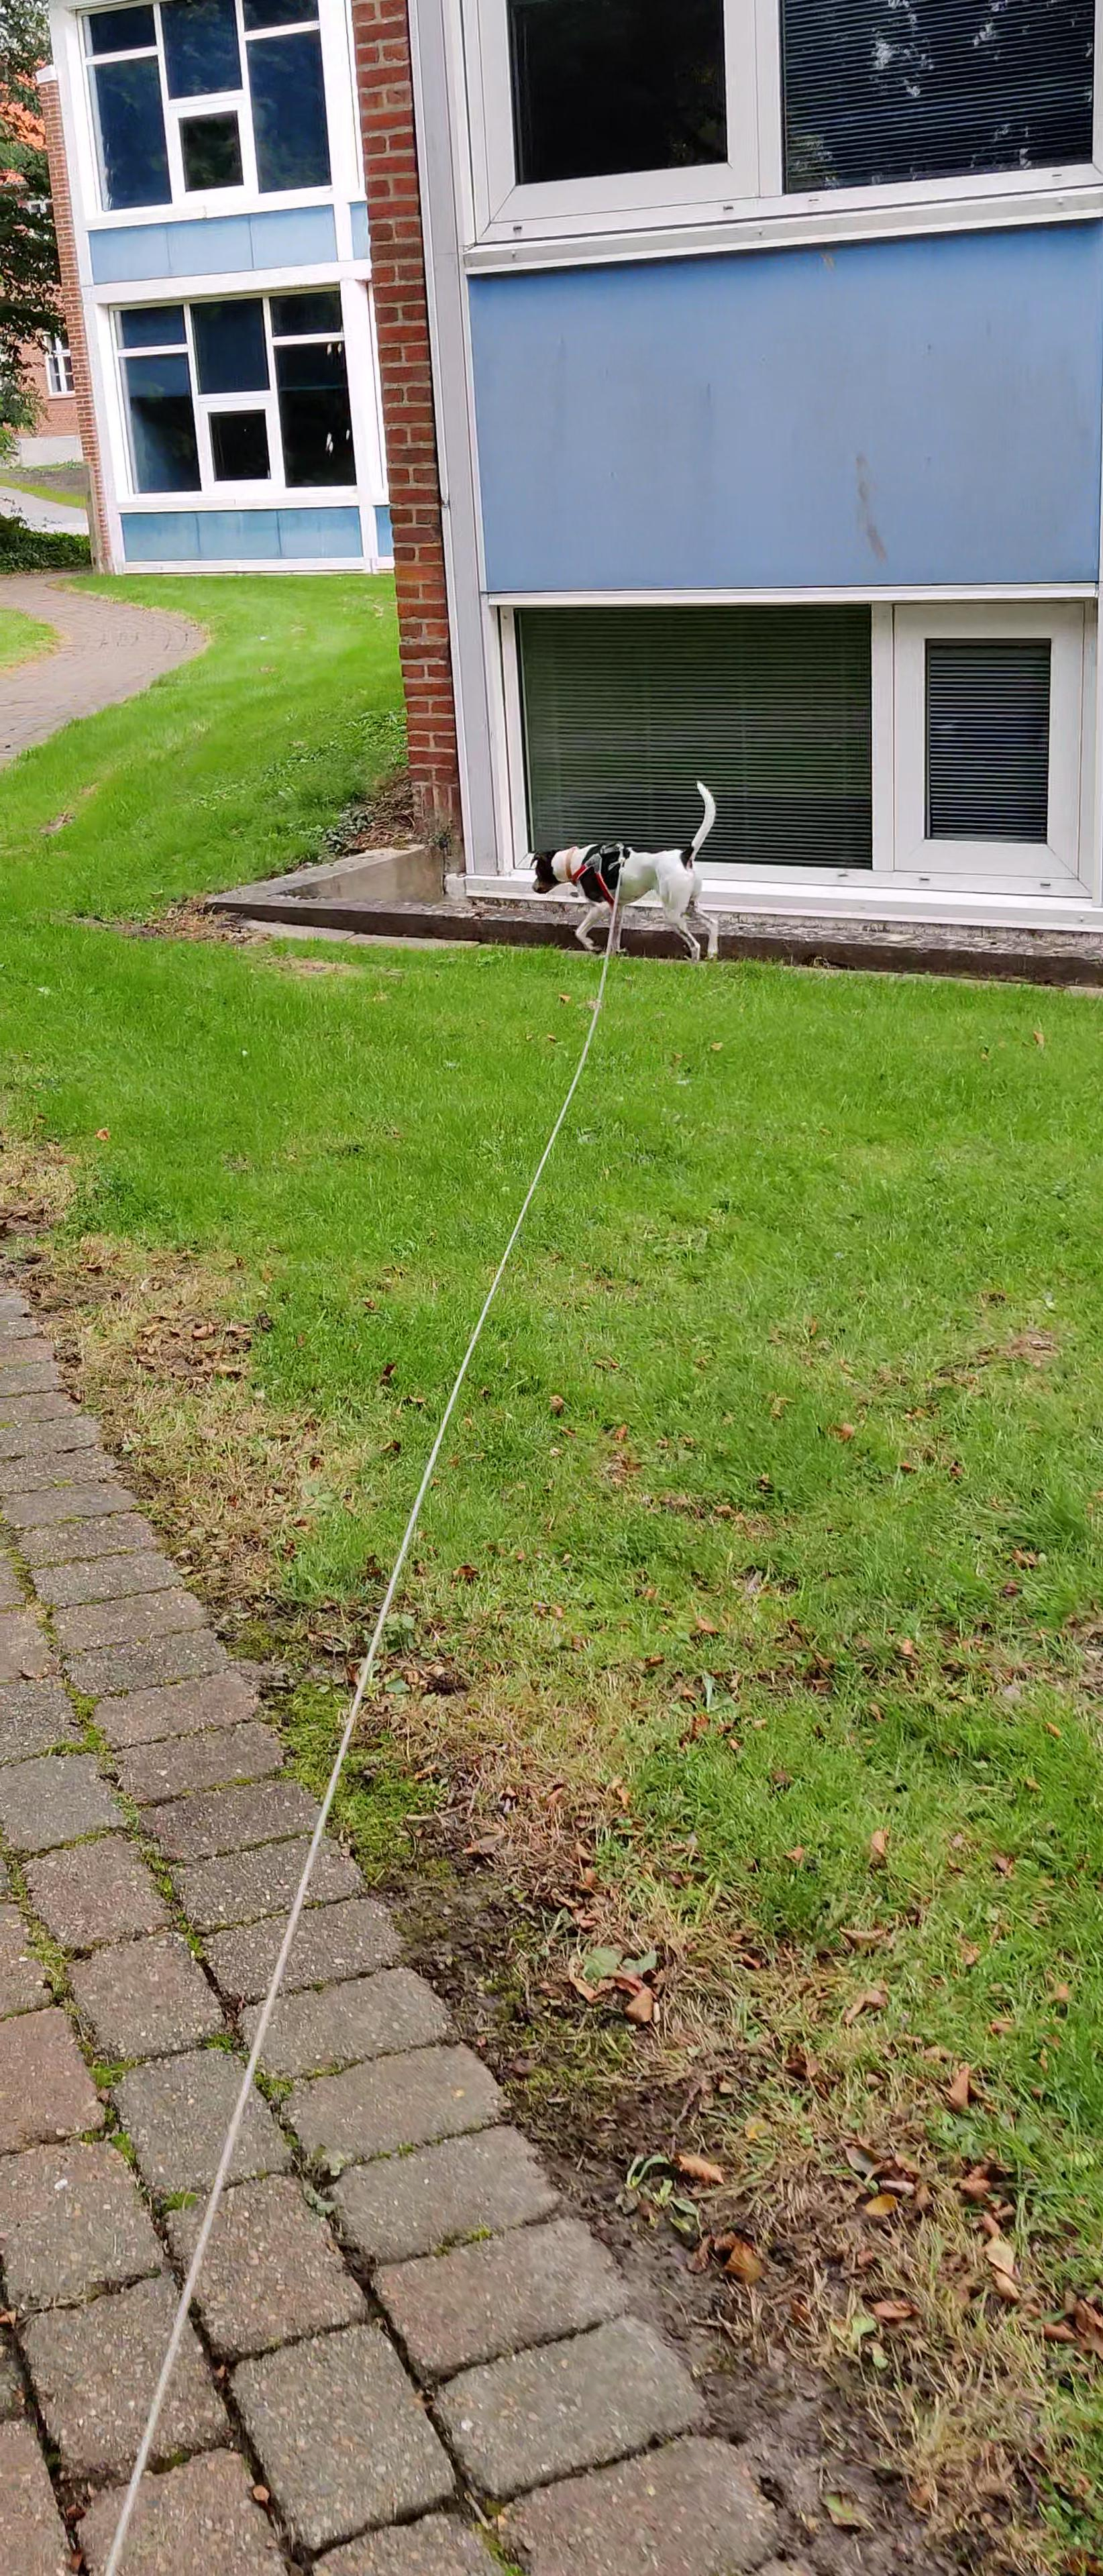Dog: (524, 772, 725, 964)
